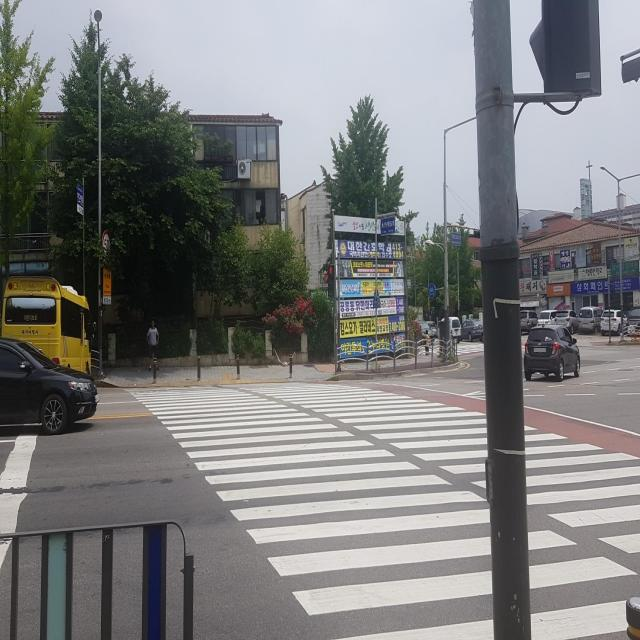횡단보도: (123, 383, 640, 640)
